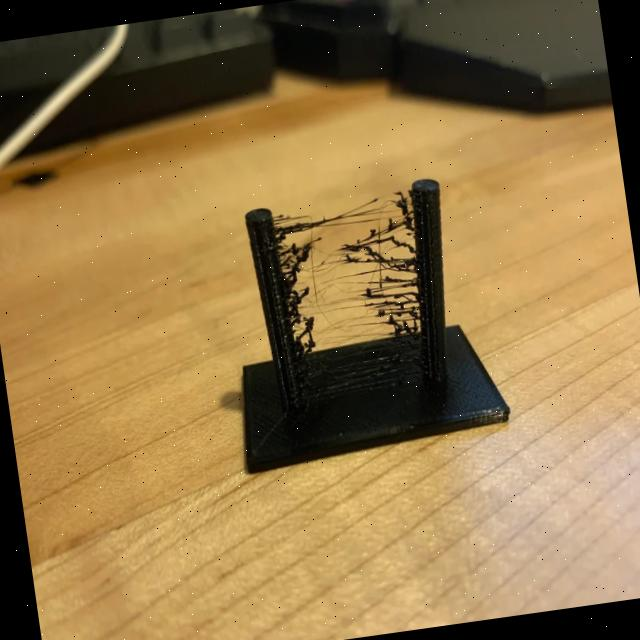stringing: (270, 197, 418, 357)
